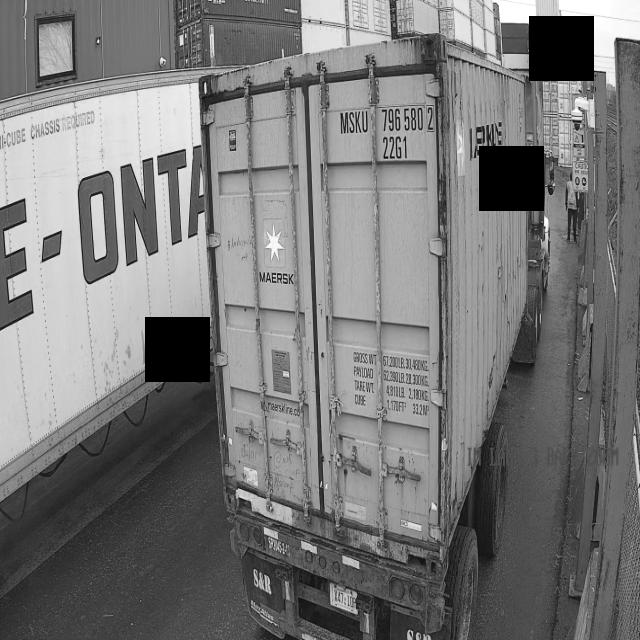container_company_logo: (258, 212, 295, 289)
container_number: (337, 102, 443, 164)
driver: (565, 173, 578, 242)
license_plate: (328, 579, 363, 613)
other_container_info: (348, 347, 433, 427)
truck_with_container: (200, 34, 555, 640), (0, 71, 210, 501)
